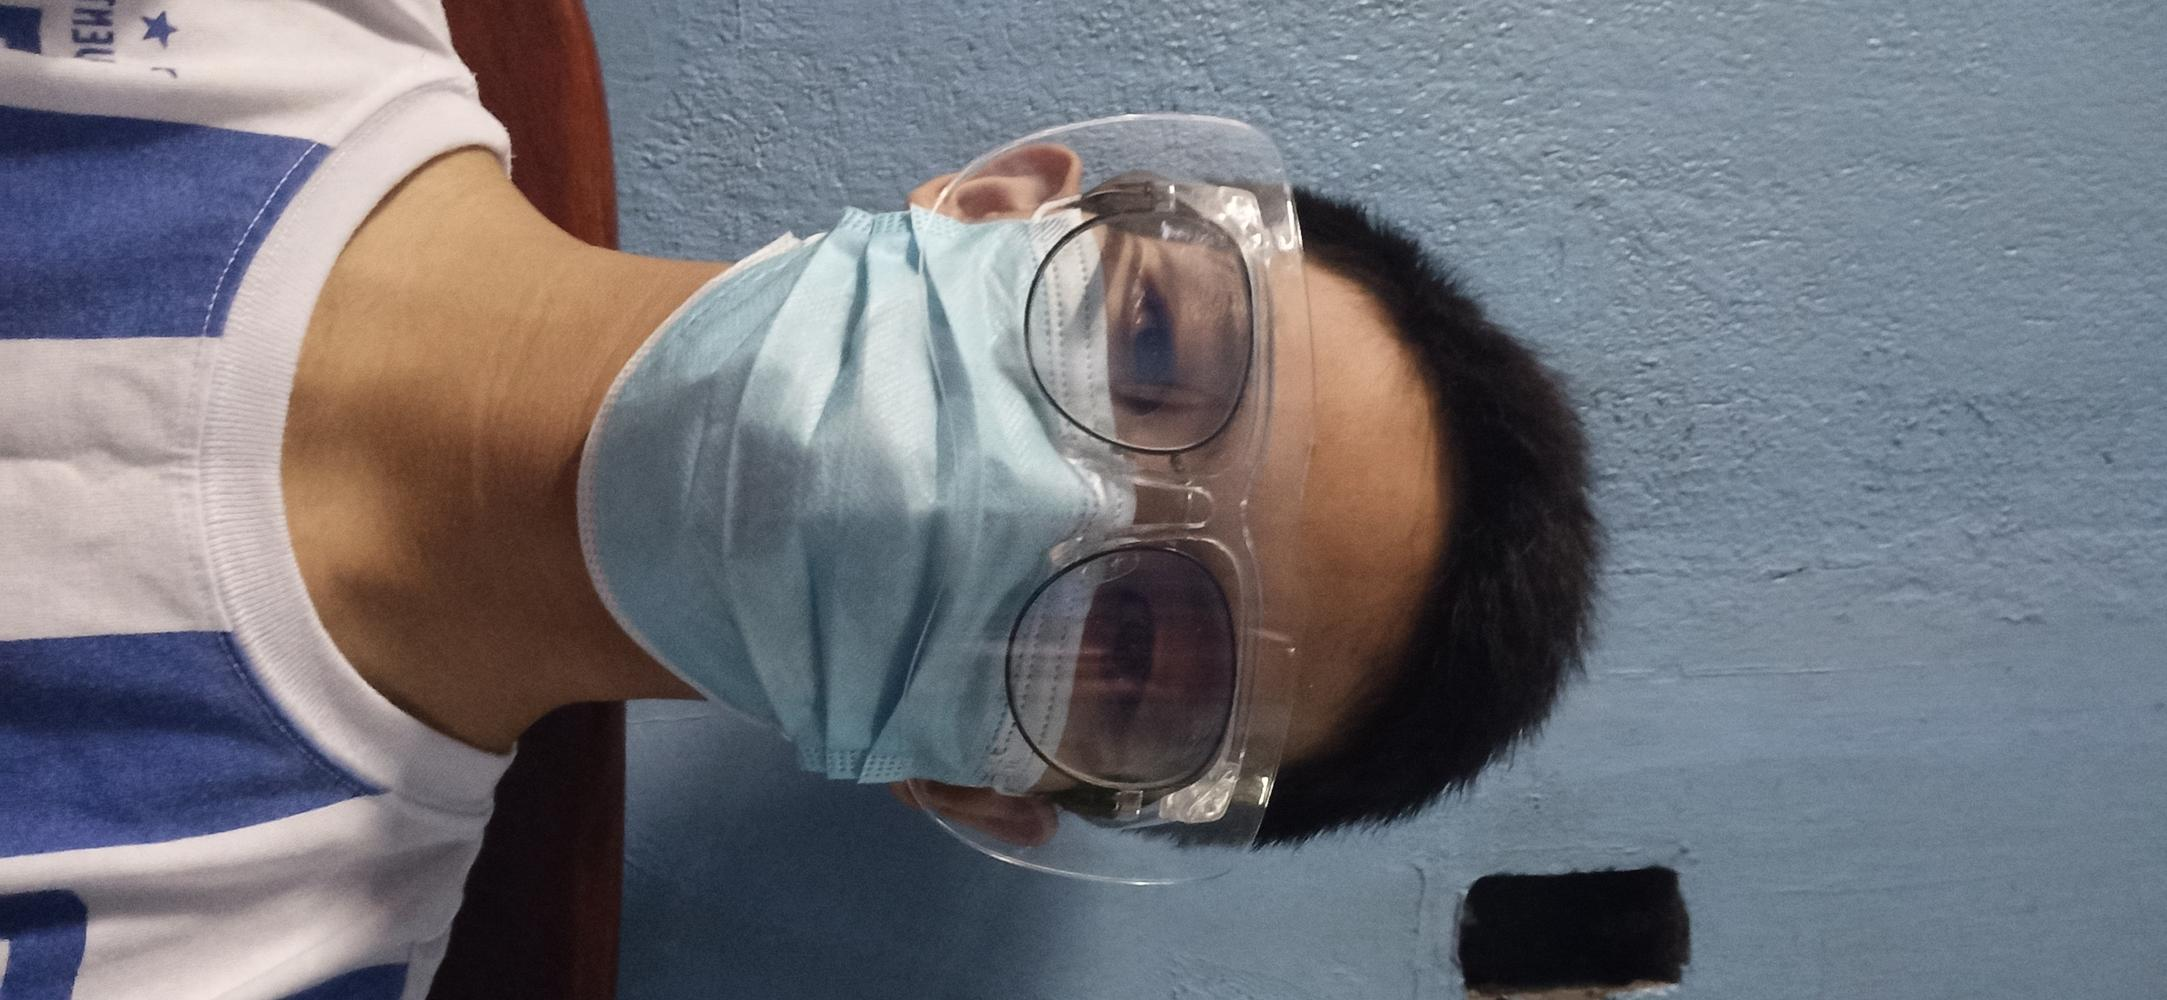Face Mask: (577, 211, 1074, 788)
Face Shield: (922, 107, 1280, 882)
Undefined Object: (6, 11, 518, 1000), (1048, 185, 1238, 772)
